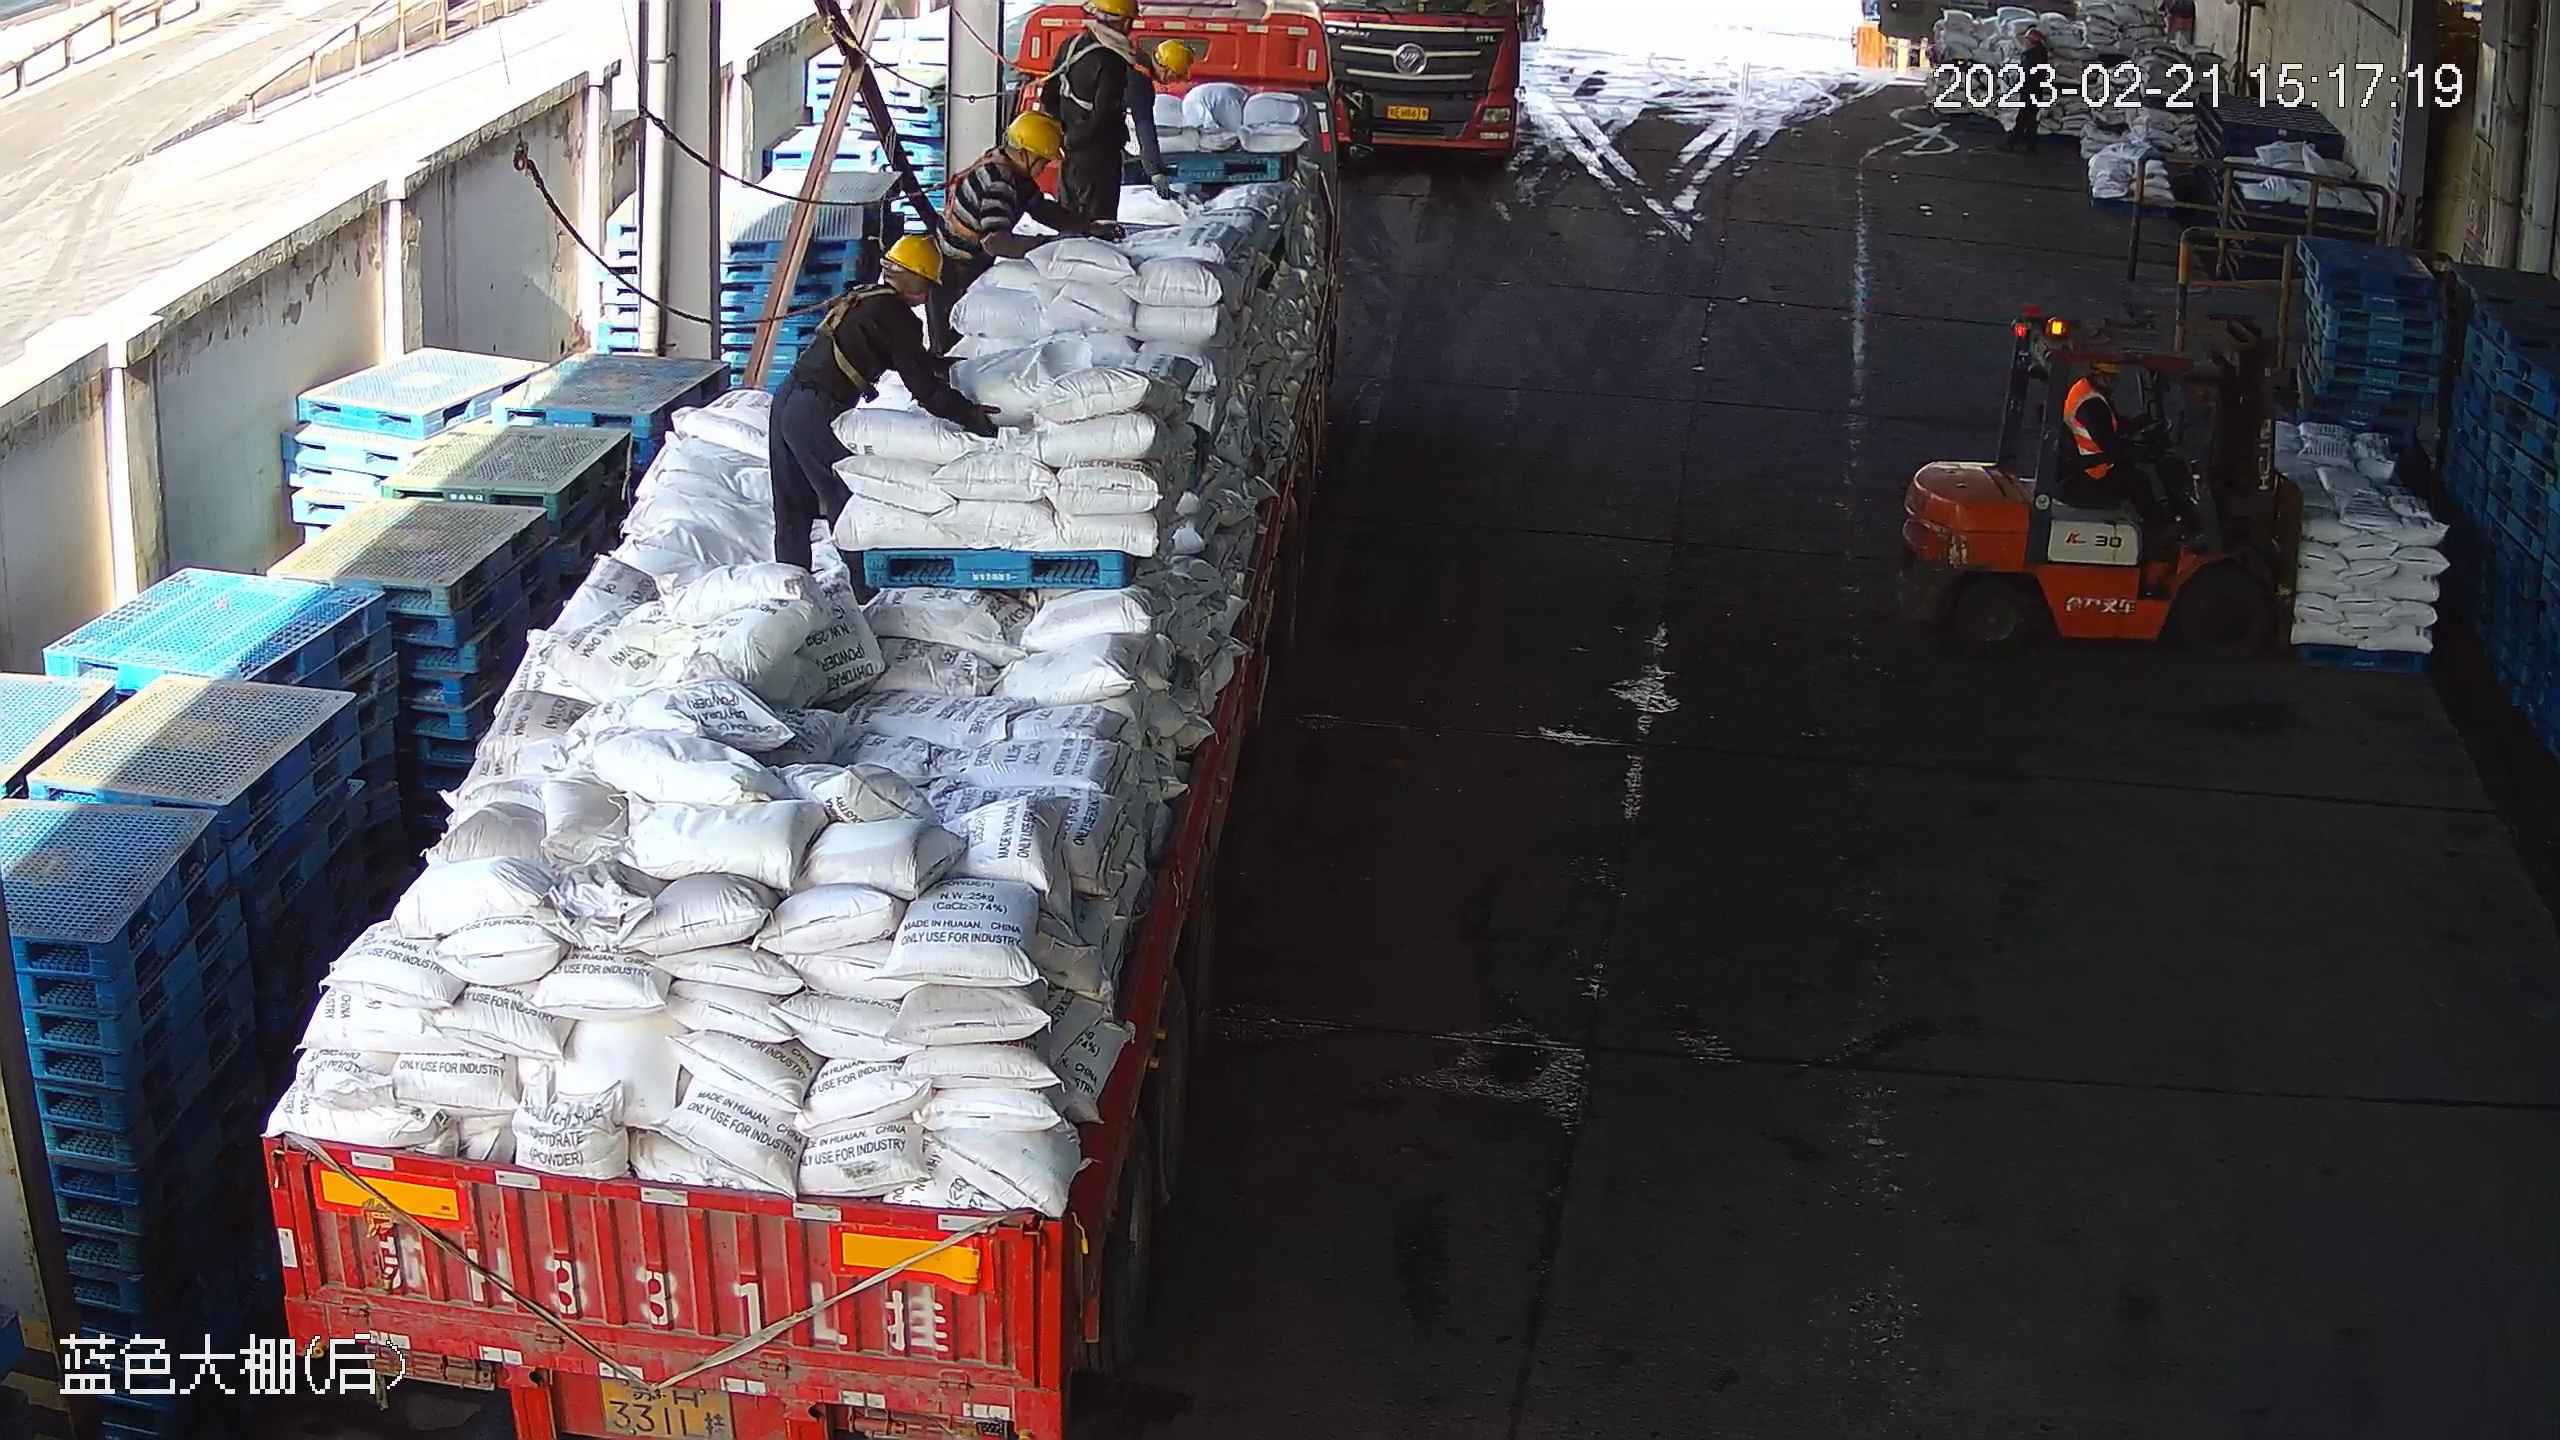belt: (802, 293, 879, 392), (939, 157, 1011, 237), (1051, 41, 1116, 109)
head: (848, 237, 948, 339), (980, 113, 1071, 204), (1069, 4, 1144, 79)
helmet: (879, 229, 939, 283), (1007, 111, 1062, 160), (1162, 41, 1195, 76)
people: (769, 237, 1002, 576), (928, 111, 1125, 357), (1051, 4, 1153, 232), (2063, 367, 2176, 515)
truck: (260, 6, 1355, 1439)
